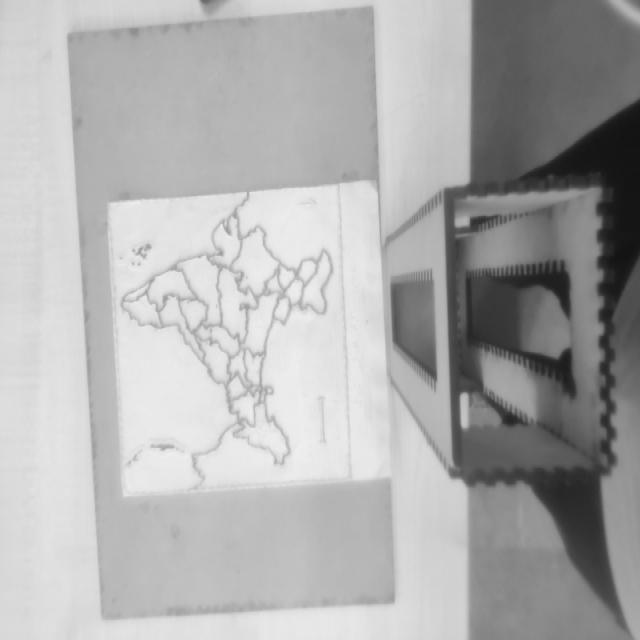map: (103, 185, 360, 494)
